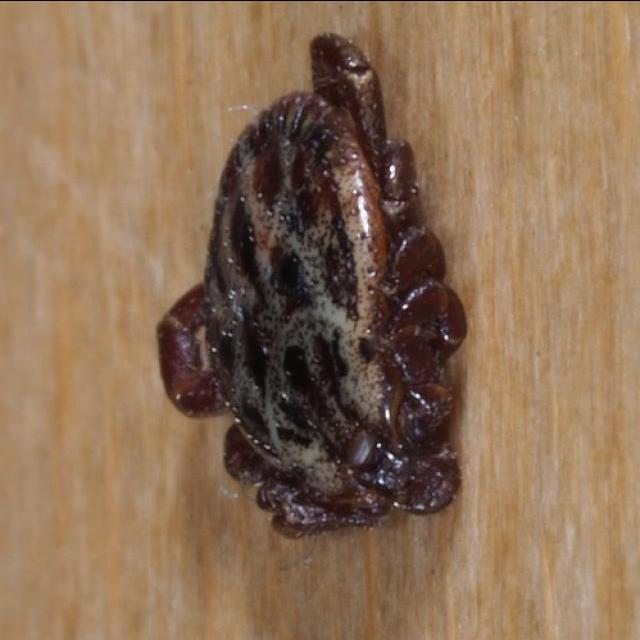Dermacentor Reticulatus-M: (156, 31, 469, 539)
